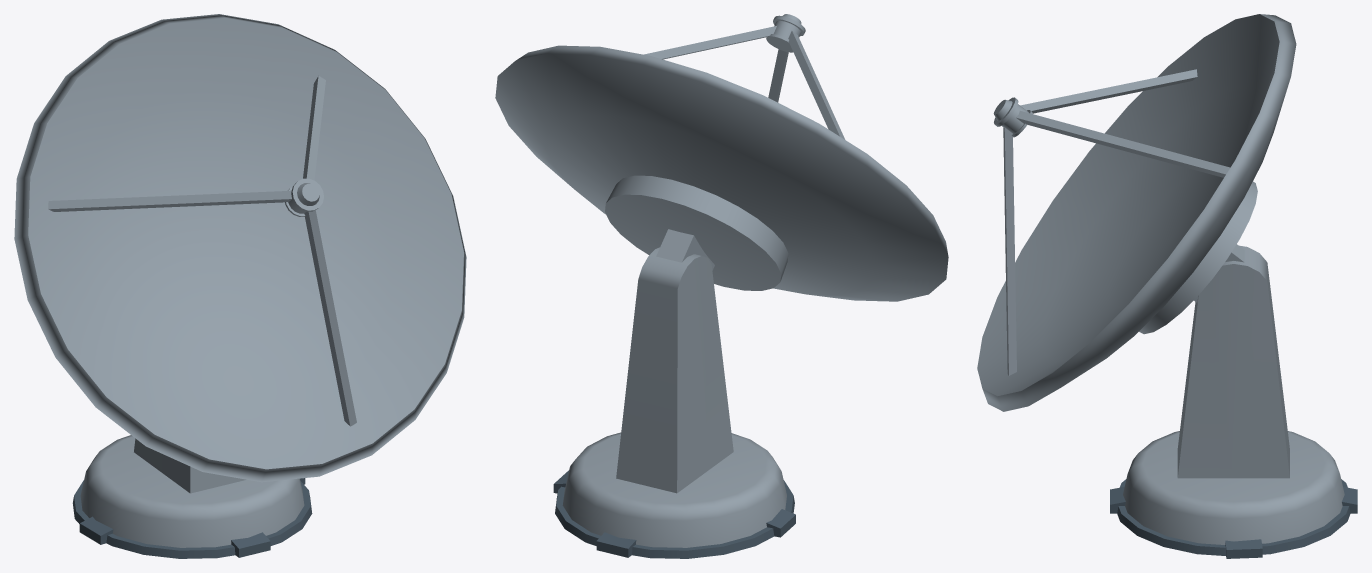
Rendered from mdl_Satellite01.fbx.
3 renders of one model, left to right at view 1: azimuth 30°, elevation 25°; view 2: azimuth 150°, elevation 25°; view 3: azimuth 270°, elevation 25°, orthographic.
Parts seen in each view (by area): view 1: mdl_Satellite1; view 2: mdl_Satellite1; view 3: mdl_Satellite1.
Boxes of the visible parts, left/top/right/bottom form: mdl_Satellite1: left=14, top=14, right=466, bottom=558; mdl_Satellite1: left=495, top=14, right=948, bottom=558; mdl_Satellite1: left=977, top=14, right=1357, bottom=558.
Bounding box in the file's own units: 407 × 427 × 317.
1 material, 1 textured.
